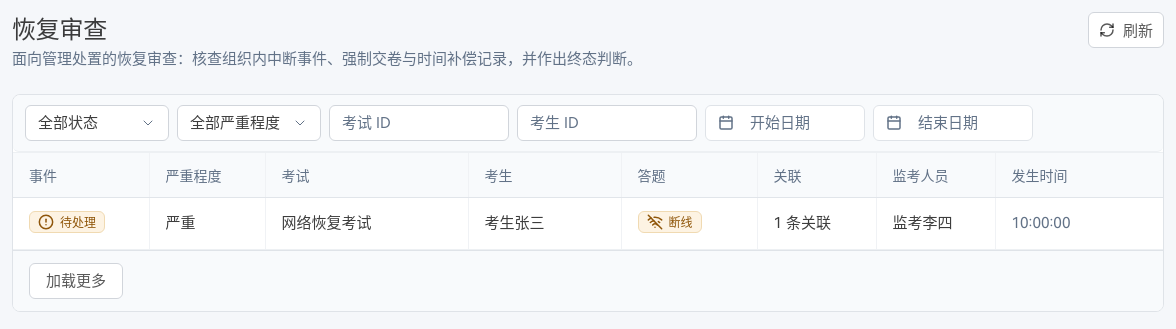
it: RecoveryQueuePage › load more appends the cursor page (cursor stays in component state, not URL)
Expected: the text "网络恢复考试" is shown, [265,197,468,249]
Click the button "加载更多": (76, 280) [29,262,123,298]
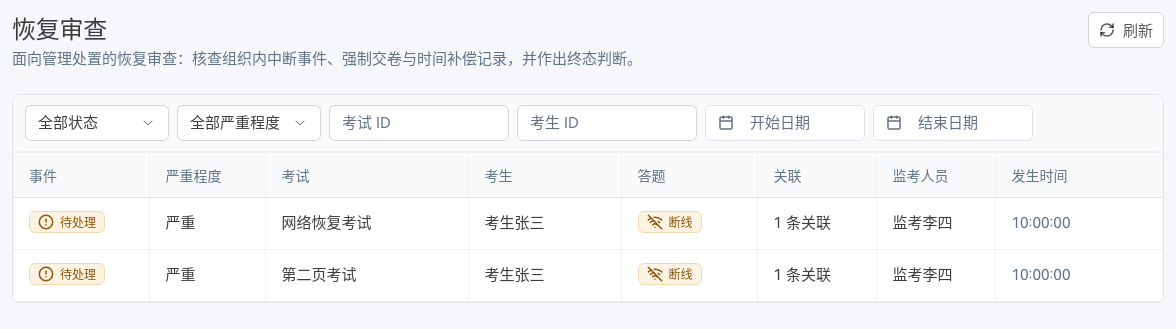
Now the text "第二页考试" is shown, box [265,249,468,301]
